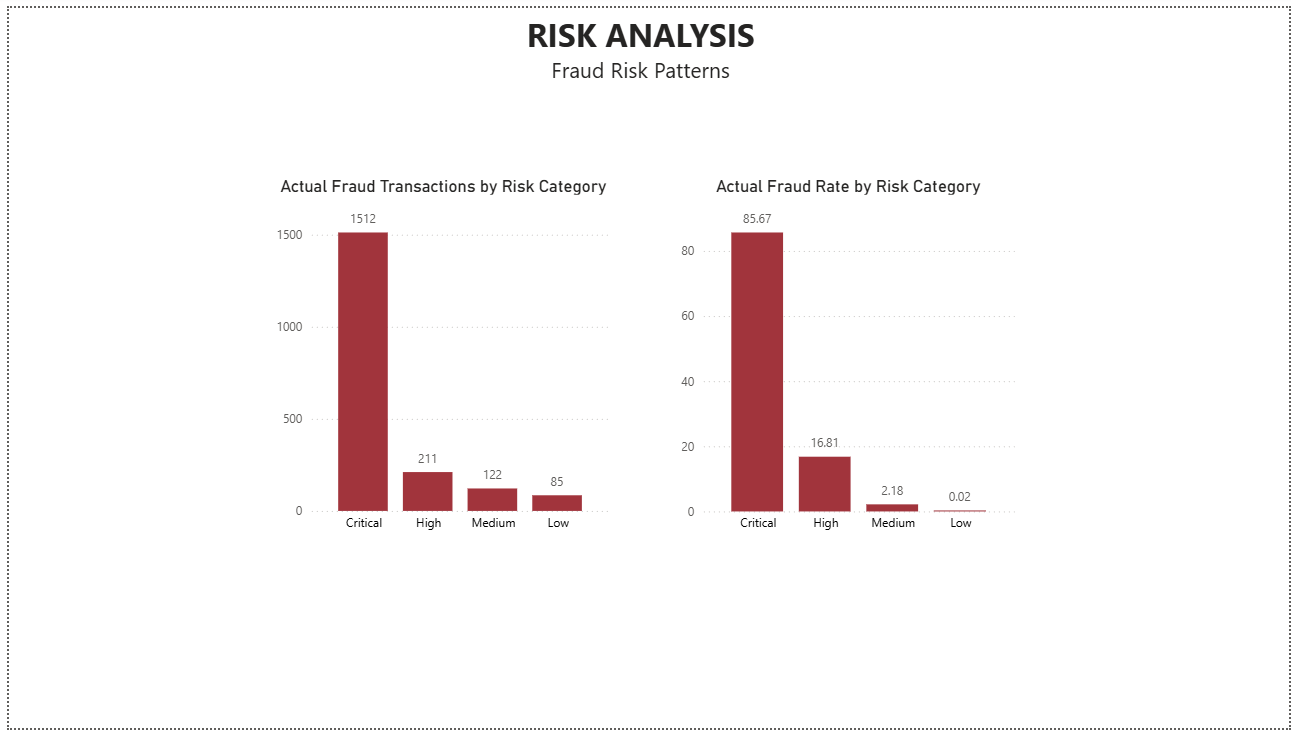

The dashboard page shown, as its layout file describes it:
{"tool":"powerbi","page":{"name":"Risk Analysis Dashboard","canvas":[1280,720],"ordinal":2},"visuals":[{"type":"textbox","box":[72.7,0,1118.5,82.8],"z":0},{"type":"clusteredColumnChart","title":"Actual Fraud Transactions by Risk Category","fields":{"Category":["fraud_analytics_db vw_risk_analysis.risk_category"],"Y":["Sum(fraud_analytics_db vw_risk_analysis.actual_fraud_transactions)"]},"box":[262.9,167.5,343.6,365.6],"z":1000},{"type":"clusteredColumnChart","title":"Actual Fraud Rate by Risk Category","fields":{"Category":["fraud_analytics_db vw_risk_analysis.risk_category"],"Y":["Sum(fraud_analytics_db vw_risk_analysis.actual_fraud_rate)"]},"box":[667.7,167.5,343.6,366.1],"z":2000}]}

Visuals, with their boxes in screenshot pixels (x1, y1, x2, y2), scaled from the page's 1280x720 canvas onto the 1291x735 screenshot:
textbox: <bbox>73, 0, 1201, 85</bbox>
"Actual Fraud Transactions by Risk Category" clusteredColumnChart: <bbox>265, 171, 612, 544</bbox>
"Actual Fraud Rate by Risk Category" clusteredColumnChart: <bbox>673, 171, 1020, 545</bbox>
